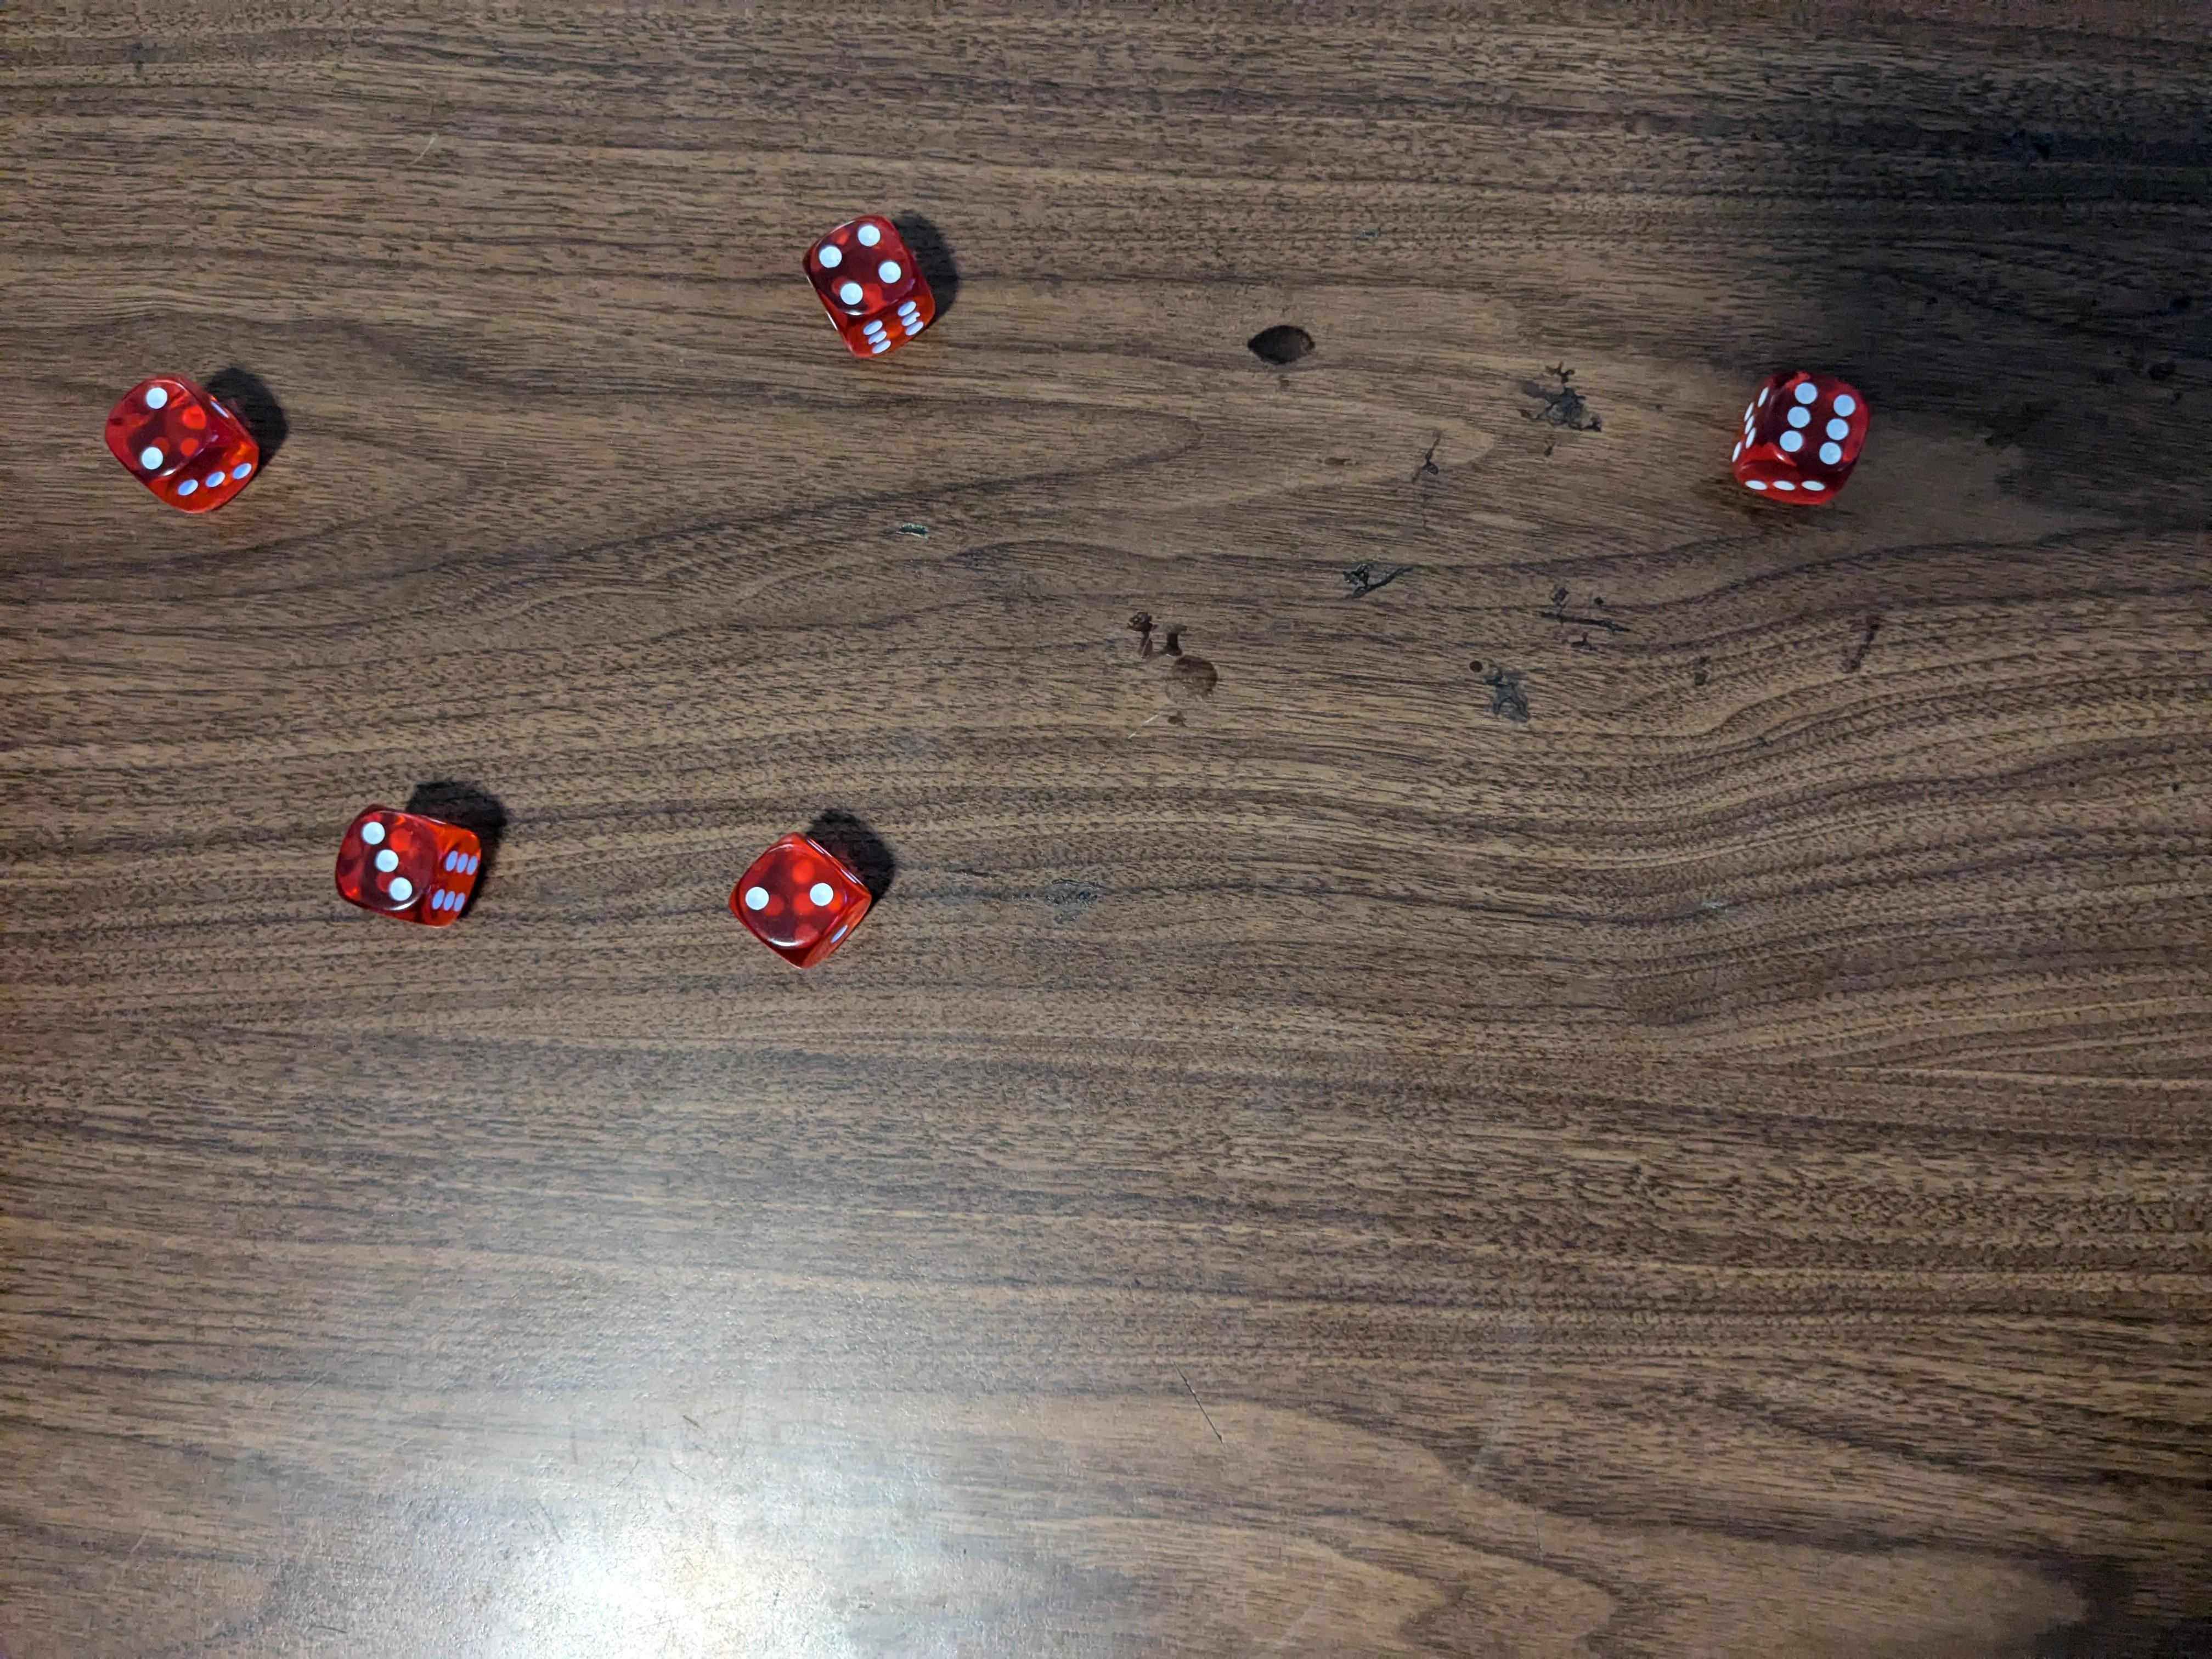four: (799, 207, 941, 364)
six: (1726, 369, 1871, 509)
three: (331, 803, 489, 927)
two: (101, 364, 265, 521), (735, 824, 876, 967)
